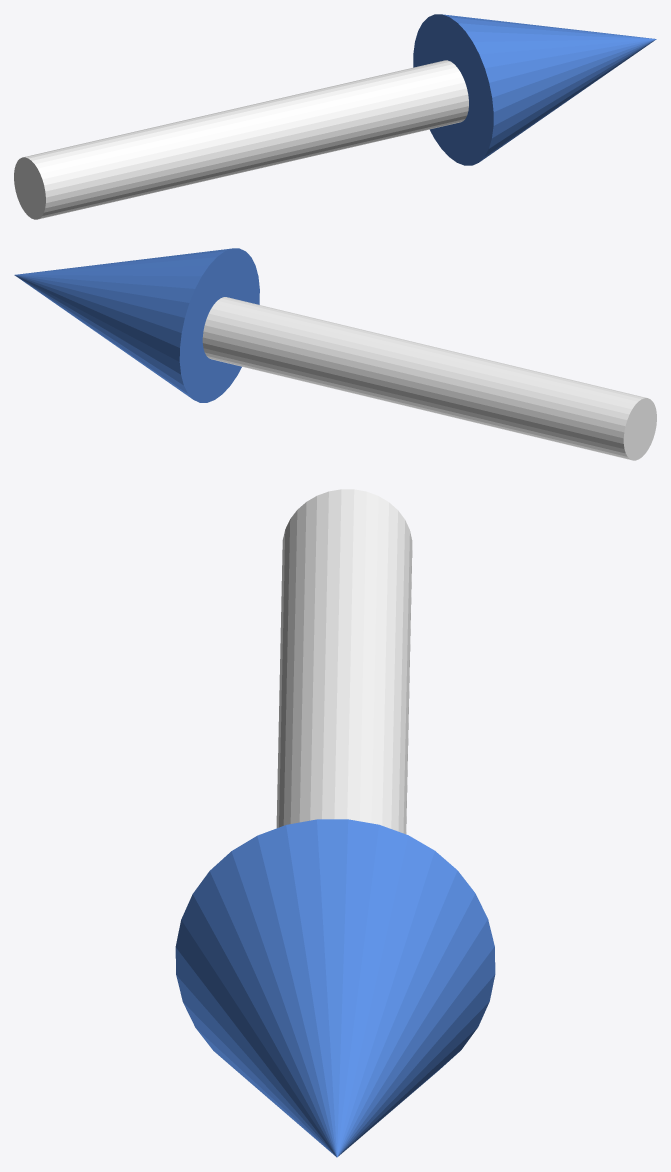
File: arrow.glb
3 views of the same model, one above another, from view 1: azimuth 30°, elevation 25°; view 2: azimuth 150°, elevation 25°; view 3: azimuth 270°, elevation 25° (orthographic). The views are drawn at different scales.
Visible parts, largest first — view 1: Cylinder, Cone; view 2: Cylinder, Cone; view 3: Cone, Cylinder.
Part boxes in pixels (bbox=[...]): Cylinder: bbox=[14, 60, 468, 219]; Cone: bbox=[413, 14, 656, 165]; Cylinder: bbox=[202, 297, 656, 460]; Cone: bbox=[14, 248, 259, 402]; Cone: bbox=[175, 819, 495, 1157]; Cylinder: bbox=[276, 489, 412, 834].
Size of what is drawn, in the model's own units: 102 by 21.98 by 22.61.
